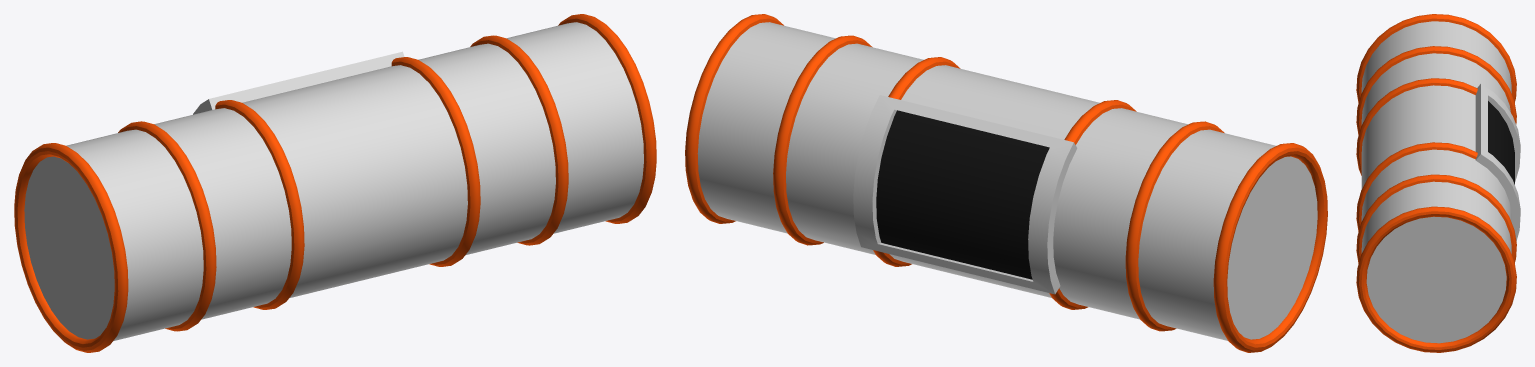
Rendered from Base_Connector.glb.
The picture shows the model from 3 angles, left to right: view 1: azimuth 30°, elevation 25°; view 2: azimuth 150°, elevation 25°; view 3: azimuth 270°, elevation 25°; orthographic projection. The views are drawn at different scales.
Visible parts, largest first — view 1: Connection; view 2: Connection; view 3: Connection.
Boxes of the visible parts, box(x1,y1,x2,y2) form: Connection: box(14, 14, 656, 352); Connection: box(685, 14, 1327, 352); Connection: box(1356, 14, 1520, 352).
Size of the model in its own units: 0.9118 by 0.3141 by 0.3212.
